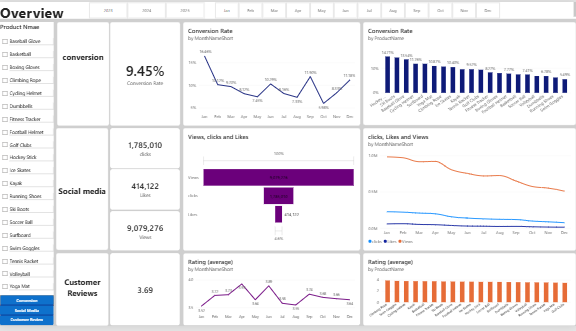

What the dashboard file says about the page in this screenshot:
{"tool":"powerbi","page":{"name":"Overview","canvas":[1920,1080],"ordinal":0},"visuals":[{"type":"textbox","box":[0,0,1920,56.2],"z":0},{"type":"slicer","title":"Product Nmae","fields":{"Values":["products.ProductName"]},"box":[0,65,178.8,910],"z":1000},{"type":"textbox","box":[188.8,65,173.8,346.2],"z":2000},{"type":"textbox","box":[188,419,174,407],"z":3000},{"type":"textbox","box":[187.5,837.5,175,242.5],"z":4000},{"type":"card","fields":{"Values":["calculations.Conversion Rate"]},"box":[367.5,65,233.8,346.2],"z":5000},{"type":"cardVisual","fields":{"Data":["calculations.clicks"]},"box":[368,419,233,135],"z":6000},{"type":"cardVisual","fields":{"Data":["calculations.Likes"]},"box":[368.2,556.5,233.3,137],"z":7000},{"type":"cardVisual","fields":{"Data":["calculations.Views"]},"box":[368.2,695.7,233.3,132.7],"z":8000},{"type":"cardVisual","fields":{"Data":["calculations.Rating (average)"]},"box":[367.8,837.8,233.3,242.2],"z":9000},{"type":"slicer","fields":{"Values":["Calendar.MonthNameShort"]},"box":[697.5,0,987.5,56.2],"z":10000},{"type":"slicer","fields":{"Values":["Calendar.Year"]},"box":[275,0,422.5,56.2],"z":11000},{"type":"lineChart","fields":{"Y":["calculations.Conversion Rate"],"Category":["Calendar.MonthNameShort"]},"box":[608.8,65,591.2,346.2],"z":12000},{"type":"clusteredColumnChart","fields":{"Y":["calculations.Conversion Rate"],"Category":["products.ProductName"]},"box":[1210,66,710,344],"z":13000},{"type":"funnel","fields":{"Y":["calculations.Views","calculations.clicks","calculations.Likes"]},"box":[609.1,419.1,590.9,409.1],"z":14000},{"type":"lineChart","fields":{"Y":["calculations.clicks","calculations.Likes","calculations.Views"],"Category":["Calendar.MonthNameShort"]},"box":[1210,419,710,409],"z":15000},{"type":"lineChart","fields":{"Y":["calculations.Rating (average)"],"Category":["Calendar.MonthNameShort"]},"box":[611.3,838,590.7,242],"z":16000},{"type":"columnChart","fields":{"Y":["calculations.Rating (average)"],"Category":["products.ProductName"]},"box":[1210,838,710,242],"z":17000},{"type":"actionButton","box":[0,975,180,35],"z":18000},{"type":"actionButton","box":[0,1008.8,178.8,35],"z":19000},{"type":"actionButton","box":[0,1043.3,178.8,33.8],"z":20000},{"type":"shape","box":[0,992.5,178.8,33.8],"z":21000},{"type":"shape","box":[0,1026.2,178.8,33.8],"z":22000}]}

Visuals, with their boxes in screenshot pixels (x1, y1, x2, y2), scaled from the page's 1920x1080 canvas onto the 576x331 screenshot:
textbox: region(0, 0, 575, 17)
"Product Nmae" slicer: region(0, 20, 54, 299)
textbox: region(57, 20, 109, 126)
textbox: region(56, 128, 109, 253)
textbox: region(56, 257, 109, 330)
card - calculations.Conversion Rate: region(110, 20, 180, 126)
cardVisual - calculations.clicks: region(110, 128, 180, 170)
cardVisual - calculations.Likes: region(110, 171, 180, 213)
cardVisual - calculations.Views: region(110, 213, 180, 254)
cardVisual - calculations.Rating (average): region(110, 257, 180, 330)
slicer - Calendar.MonthNameShort: region(209, 0, 506, 17)
slicer - Calendar.Year: region(82, 0, 209, 17)
lineChart - calculations.Conversion Rate x Calendar.MonthNameShort: region(183, 20, 360, 126)
clusteredColumnChart - calculations.Conversion Rate x products.ProductName: region(363, 20, 575, 126)
funnel - calculations.Views x calculations.clicks: region(183, 128, 360, 254)
lineChart - calculations.clicks x calculations.Likes: region(363, 128, 575, 254)
lineChart - calculations.Rating (average) x Calendar.MonthNameShort: region(183, 257, 361, 330)
columnChart - calculations.Rating (average) x products.ProductName: region(363, 257, 575, 330)
actionButton: region(0, 299, 54, 310)
actionButton: region(0, 309, 54, 320)
actionButton: region(0, 320, 54, 330)
shape: region(0, 304, 54, 315)
shape: region(0, 315, 54, 325)
